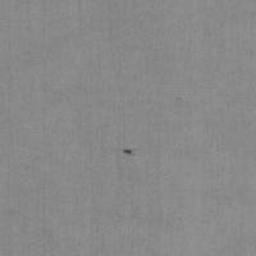Inclusion: (123, 149, 133, 155)
